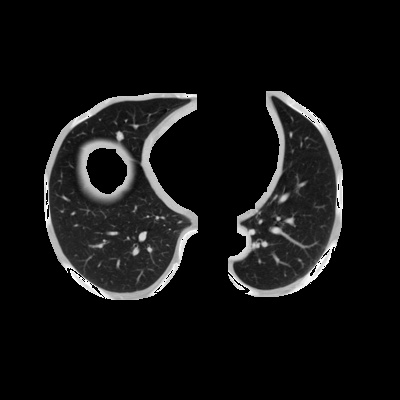PN: (115, 132, 123, 140)
